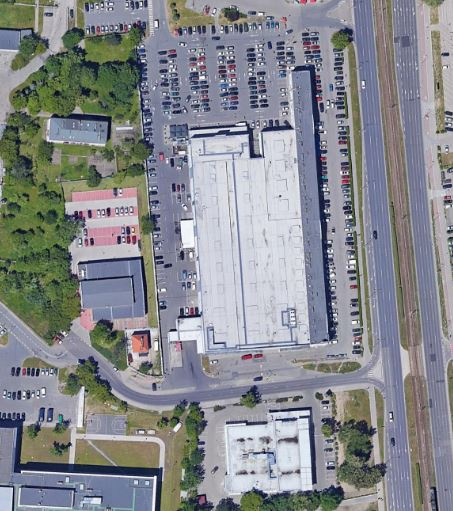block of flats: (40, 116, 115, 148)
family house: (130, 331, 153, 354)
shopping_center: (181, 64, 341, 354), (1, 422, 165, 511), (221, 405, 319, 499), (71, 252, 147, 324)
